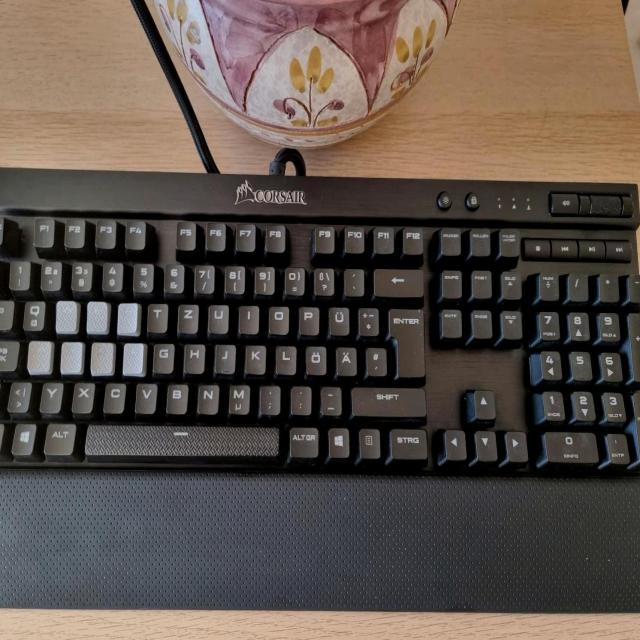0: (283, 264, 306, 294)
1: (8, 258, 30, 289)
2: (39, 259, 62, 290)
3: (70, 259, 93, 291)
4: (101, 260, 123, 291)
5: (131, 261, 154, 292)
6: (162, 261, 185, 293)
7: (193, 262, 215, 293)
8: (223, 263, 245, 294)
9: (253, 263, 275, 294)
a: (26, 339, 52, 374)
accent: (342, 266, 364, 295)
ae: (334, 343, 357, 375)
alt-left: (42, 420, 76, 454)
altgr-right: (287, 424, 319, 457)
b: (165, 381, 188, 412)
c: (102, 380, 126, 412)
caret: (0, 255, 10, 286)
comma: (258, 383, 280, 414)
d: (90, 342, 114, 376)
del: (372, 266, 423, 297)
e: (85, 299, 109, 333)
enter: (386, 305, 425, 377)
f: (121, 341, 145, 375)
g: (152, 340, 174, 372)
h: (183, 341, 205, 372)
hash: (364, 344, 386, 375)
i: (237, 302, 259, 332)
j: (213, 341, 235, 373)
k: (244, 342, 266, 373)
keyboard: (0, 209, 640, 479)
l: (274, 342, 296, 374)
less: (6, 378, 31, 411)
m: (227, 382, 250, 414)
minus: (319, 383, 341, 414)
n: (196, 382, 219, 414)
o: (267, 304, 289, 334)
oe: (304, 342, 327, 374)
p: (297, 304, 319, 334)
plus: (356, 304, 378, 335)
point: (289, 383, 311, 413)
q: (21, 298, 45, 330)
r: (114, 301, 138, 335)
s: (59, 340, 83, 374)
shift-left: (0, 378, 16, 411)
shift-lock: (0, 338, 24, 371)
shift-right: (349, 385, 426, 416)
space: (81, 423, 282, 459)
ss: (312, 265, 335, 295)
strg-left: (0, 418, 19, 453)
strg-right: (388, 425, 428, 460)
t: (146, 301, 167, 331)
tab: (0, 297, 19, 329)
u: (207, 302, 229, 333)
ue: (327, 304, 349, 335)
v: (134, 380, 157, 412)
w: (54, 298, 79, 333)
x: (71, 380, 95, 412)
y: (38, 380, 63, 412)
z: (176, 301, 199, 332)
